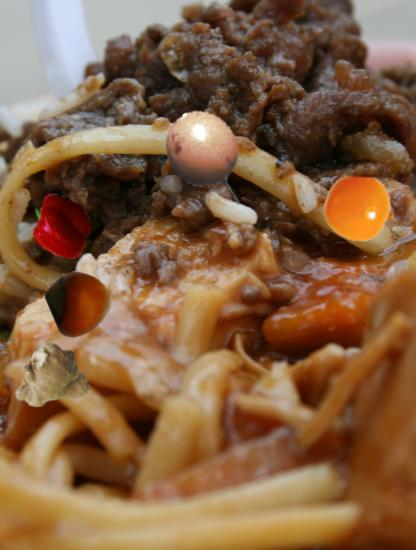Ginger: (16, 346, 89, 419)
Granadilla: (155, 108, 262, 215)
Nut: (48, 270, 113, 335)
Pepper: (29, 194, 94, 259)
Physalis: (323, 172, 397, 246)
